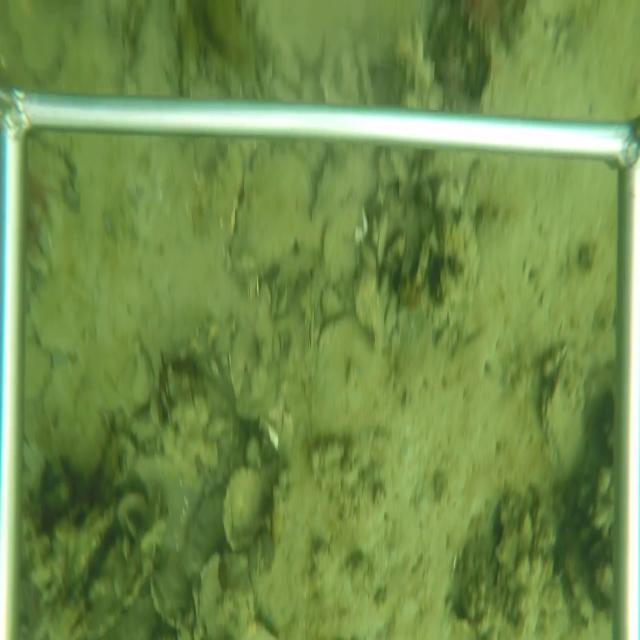Oyster-Closed: (540, 343, 585, 480), (218, 463, 265, 553)
Oyster-Indeterminate: (226, 150, 314, 280)
